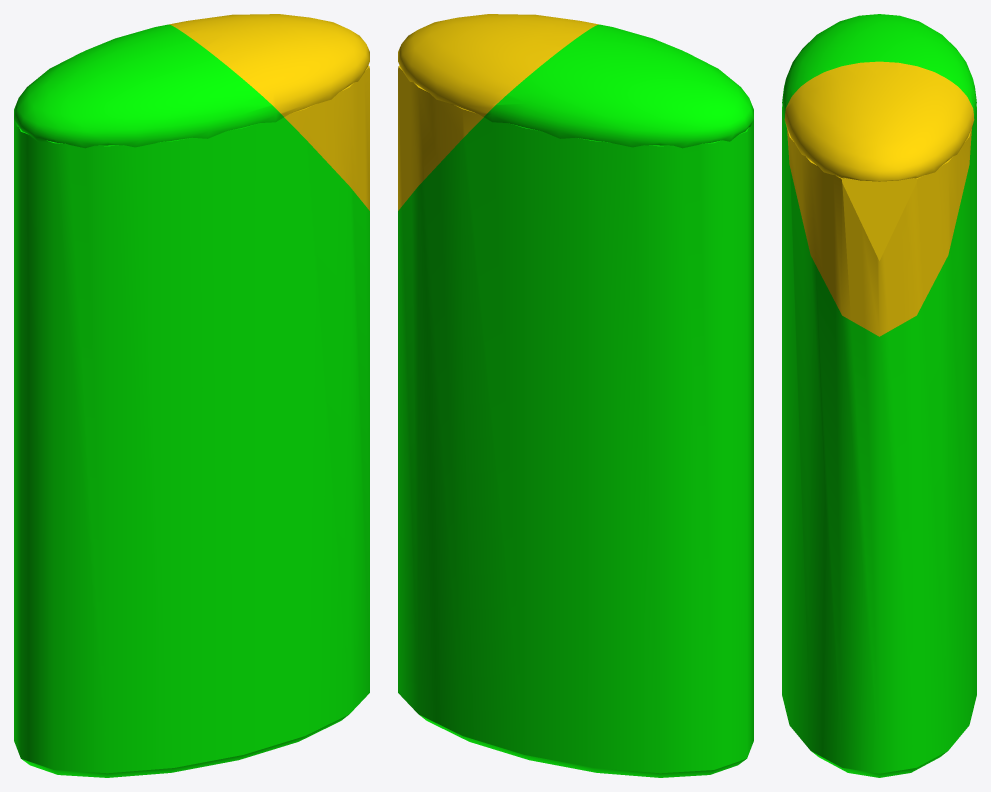
The model's file is ShampooBottle.fbx.
3 renders of one model, left to right at view 1: azimuth 30°, elevation 25°; view 2: azimuth 150°, elevation 25°; view 3: azimuth 270°, elevation 25°, orthographic. The views are drawn at different scales.
Visible parts, largest first — view 1: ShampooBottle; view 2: ShampooBottle; view 3: ShampooBottle.
Boxes of the visible parts, x1=… form: ShampooBottle: x1=14, y1=14, x2=369, y2=777; ShampooBottle: x1=398, y1=14, x2=753, y2=777; ShampooBottle: x1=782, y1=14, x2=976, y2=777.
Size of the model in its own units: 800 by 1530 by 420.
